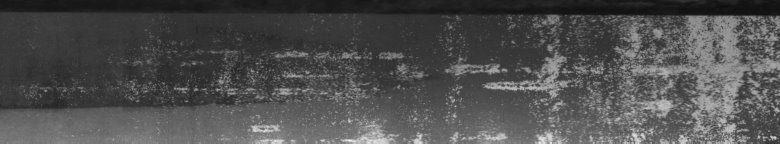kb: (21, 8, 776, 136)
